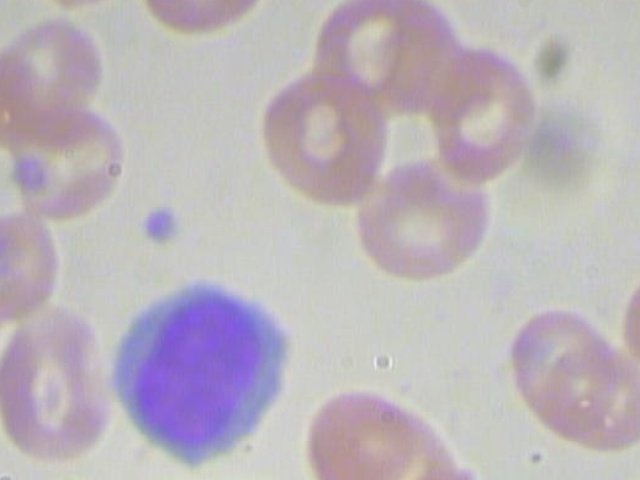Platelets: (134, 198, 189, 248)
RBC: (255, 68, 399, 209), (0, 306, 124, 462), (352, 147, 497, 279), (303, 381, 470, 480), (0, 97, 128, 225), (503, 297, 620, 435), (426, 45, 542, 181), (0, 207, 62, 321), (135, 0, 274, 42)
WBC: (93, 274, 306, 472)
